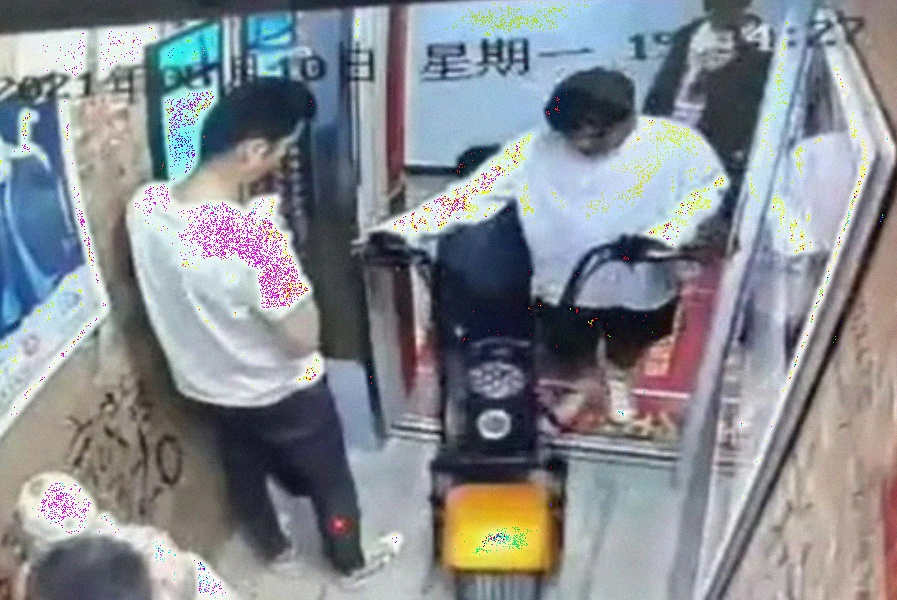ebike: (351, 226, 677, 600)
person: (133, 77, 403, 573), (404, 66, 729, 422)
